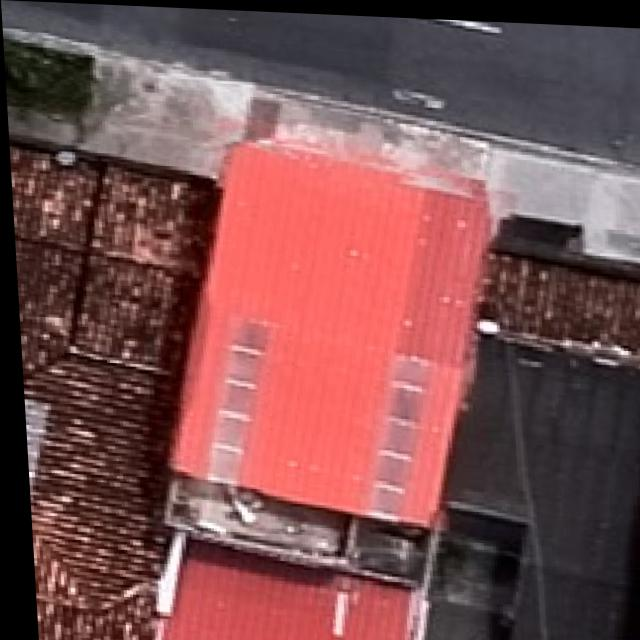Batiment: (167, 145, 486, 519), (154, 541, 417, 640)
